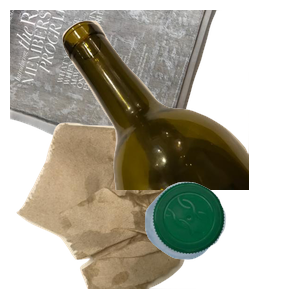glass: (60, 18, 300, 198)
paper: (10, 10, 222, 176)
plastic: (142, 179, 300, 300)
trash: (14, 120, 222, 300)
